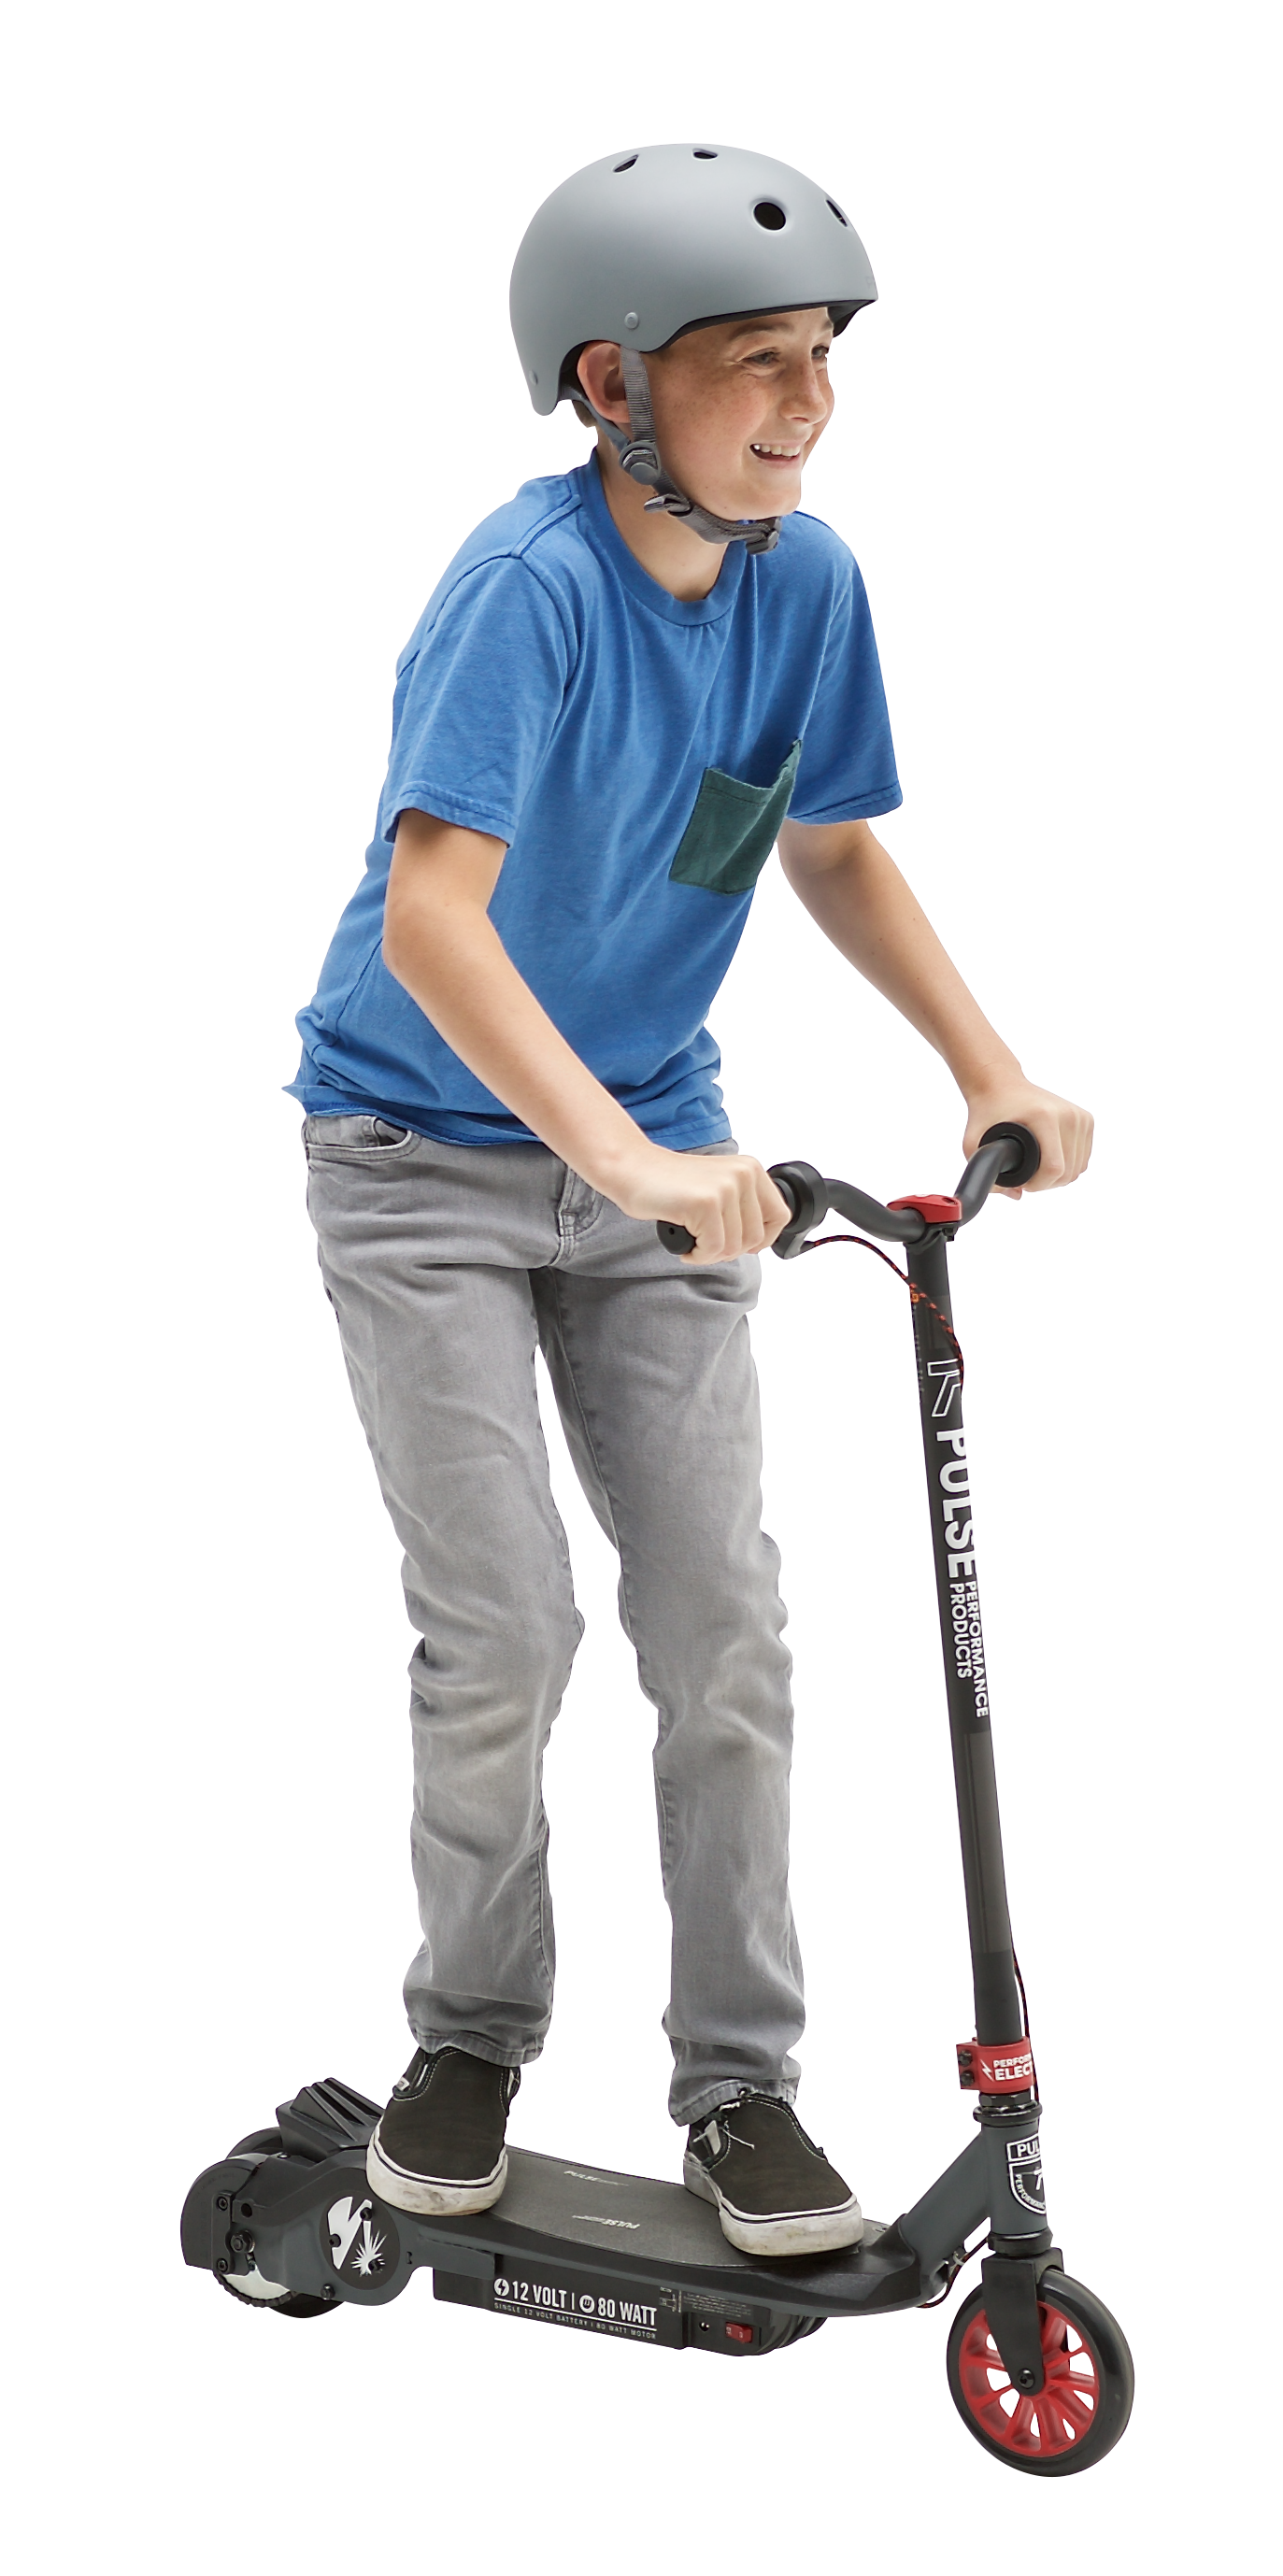scooter: (177, 1112, 1153, 2487)
with helmet: (494, 136, 892, 540)
